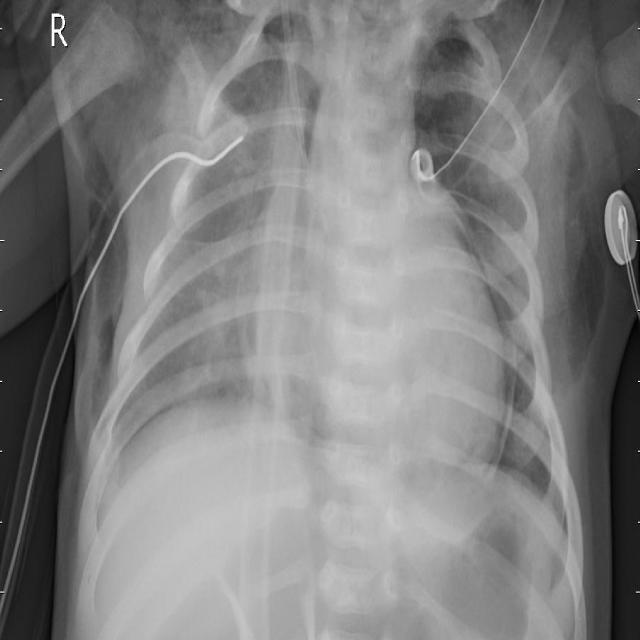bacterial_pneumonia: (3, 2, 640, 640), (2, 0, 4, 3)
